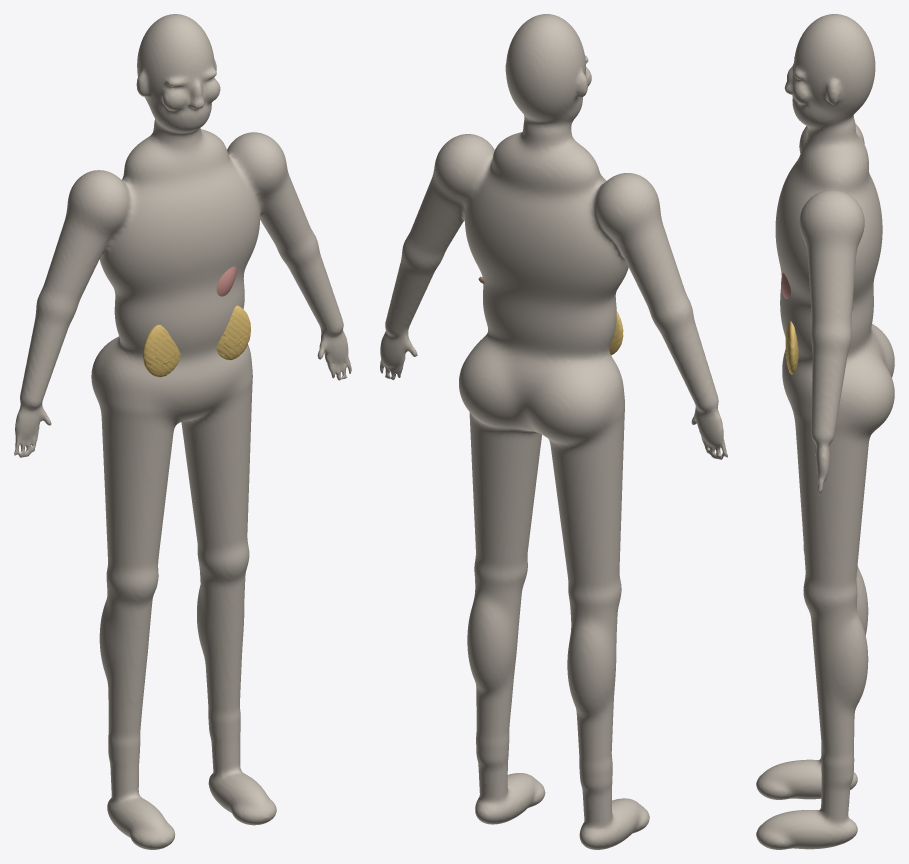
Rendered from glucotwin_anatomy.glb.
3 views of the same model, side by side, from view 1: azimuth 30°, elevation 25°; view 2: azimuth 150°, elevation 25°; view 3: azimuth 270°, elevation 25° (orthographic). The views are drawn at different scales.
Visible parts, largest first — view 1: shell_full_body, abdominal_fat_right, abdominal_fat_left; view 2: shell_full_body; view 3: shell_full_body, abdominal_fat_left.
Boxes of the visible parts, x1,y1,x2,y2 form: shell_full_body: (14, 14, 351, 849); abdominal_fat_right: (142, 325, 180, 377); abdominal_fat_left: (216, 305, 250, 360); shell_full_body: (380, 14, 727, 849); shell_full_body: (756, 14, 894, 849); abdominal_fat_left: (785, 321, 798, 374).
Bounding box in the file's own units: 0.7715 × 1.74 × 0.2716.
